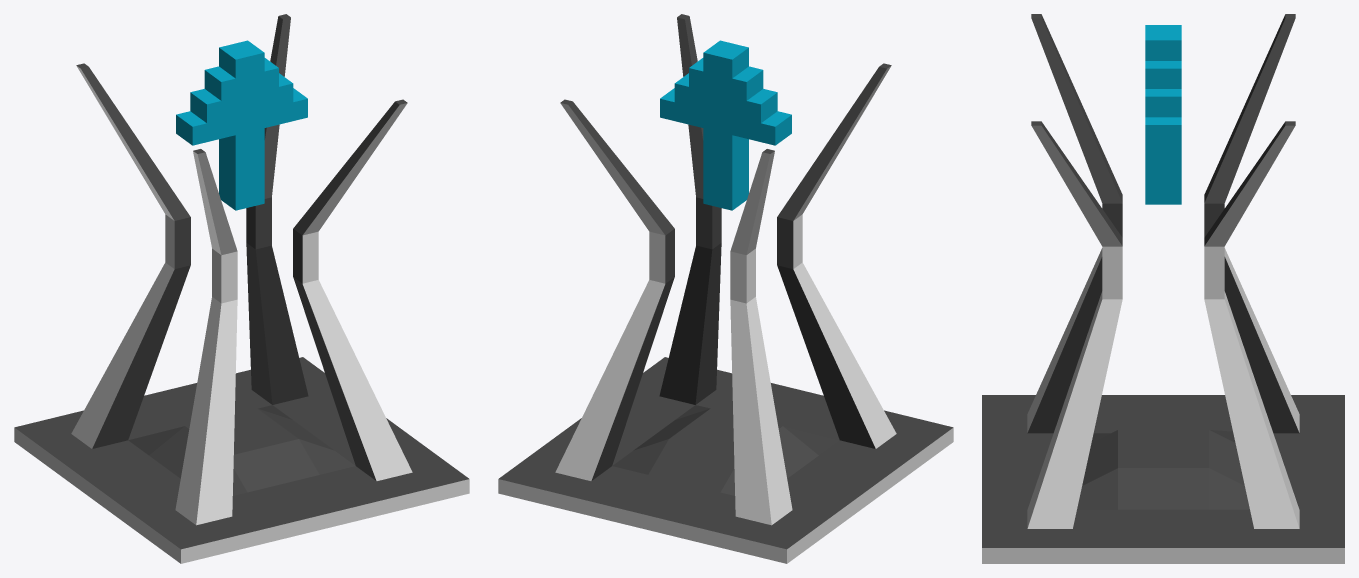
File: damageTowerRemastered.fbx
3 renders of one model, left to right at view 1: azimuth 30°, elevation 25°; view 2: azimuth 150°, elevation 25°; view 3: azimuth 270°, elevation 25°, orthographic. The views are drawn at different scales.
Parts seen in each view (by area): view 1: Cube.001, Cube; view 2: Cube.001, Cube; view 3: Cube.001, Cube.
Boxes of the visible parts, x1,y1,x2,y2 form: Cube.001: (14,14,469,563); Cube: (176,40,307,210); Cube.001: (498,14,953,563); Cube: (660,40,791,210); Cube.001: (982,14,1344,563); Cube: (1145,25,1181,204).
Bounding box in the file's own units: 200 × 277 × 200.
